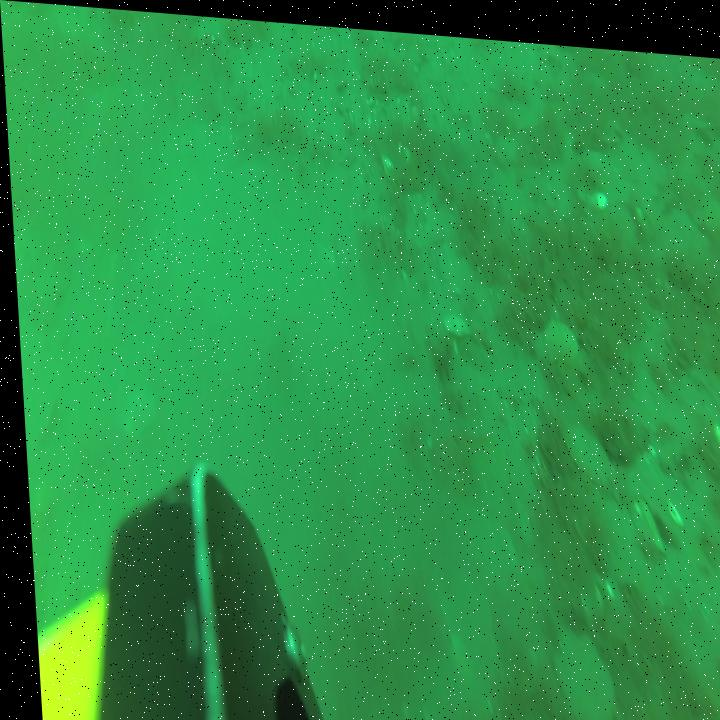scallop: (543, 612, 612, 720), (559, 410, 614, 480), (538, 307, 577, 361), (495, 121, 526, 160)
